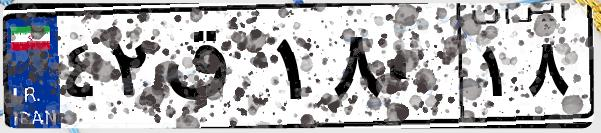0: (385, 28, 445, 110)
1: (270, 28, 330, 110), (475, 38, 525, 113)
2: (110, 28, 158, 98)
4: (57, 26, 110, 100)
8: (330, 28, 385, 110), (525, 38, 570, 115)
ق: (158, 20, 270, 120)
